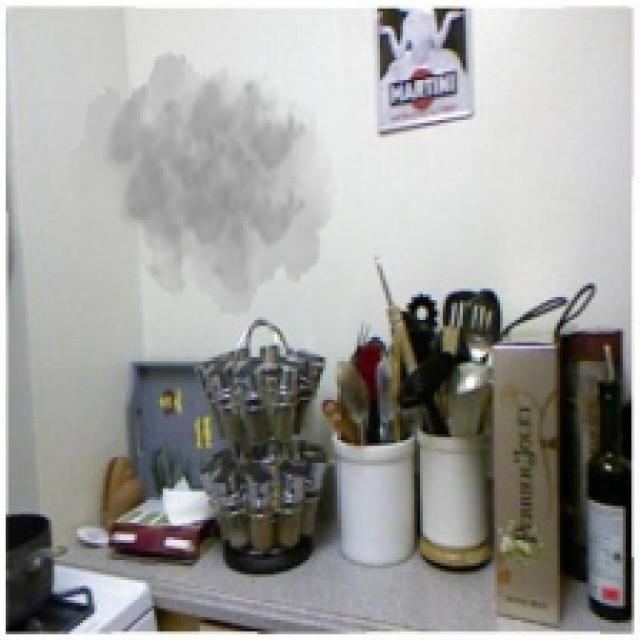Smoke: (69, 48, 338, 320)
